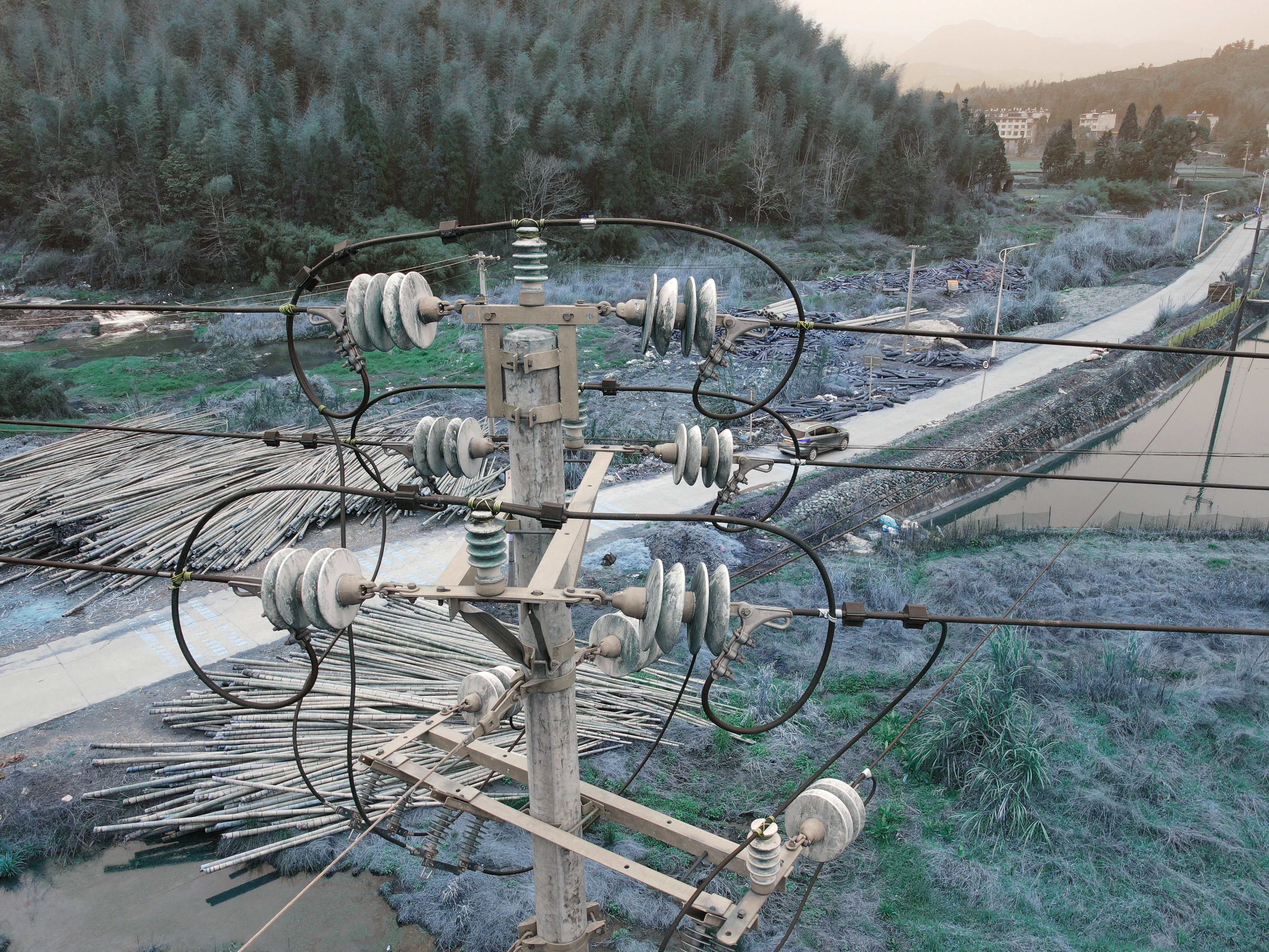severe_soiling_no_discharge_whole: (612, 556, 732, 657), (262, 545, 370, 631), (616, 272, 719, 362), (343, 270, 448, 353), (785, 776, 866, 864), (655, 419, 735, 489), (589, 610, 665, 678), (412, 416, 494, 479), (454, 662, 524, 730), (461, 507, 509, 593), (510, 223, 548, 306), (743, 817, 783, 895), (561, 418, 589, 449)
